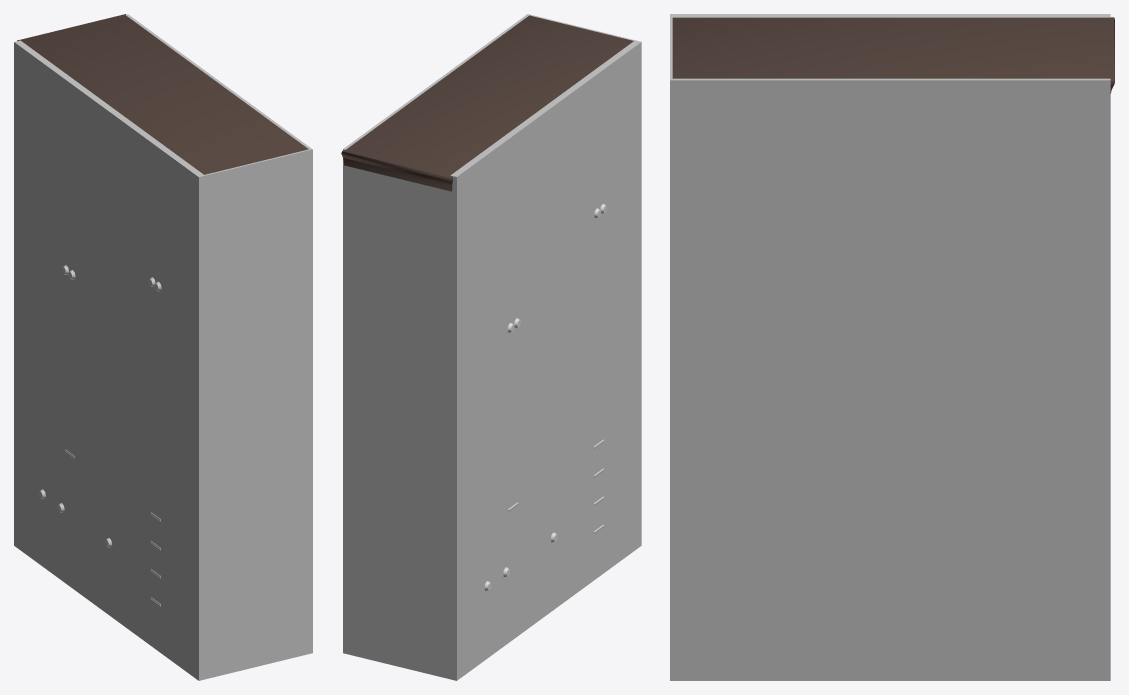
The model's file is SM_Commercial_Furniture_Bookcase_01_ATLAS.fbx.
The picture shows the model from 3 angles, left to right: view 1: azimuth 30°, elevation 25°; view 2: azimuth 150°, elevation 25°; view 3: azimuth 270°, elevation 25°; orthographic projection. The views are drawn at different scales.
Visible parts, largest first — view 1: SM_Commercial_Furniture_Bookcase_01_ATLAS_ConvexHulls, SM_Commercial_Furniture_Bookcase_01_ATLAS; view 2: SM_Commercial_Furniture_Bookcase_01_ATLAS_ConvexHulls, SM_Commercial_Furniture_Bookcase_01_ATLAS; view 3: SM_Commercial_Furniture_Bookcase_01_ATLAS_ConvexHulls, SM_Commercial_Furniture_Bookcase_01_ATLAS.
Boxes of the visible parts, x1,y1,x2,y2 form: SM_Commercial_Furniture_Bookcase_01_ATLAS_ConvexHulls: [14, 14, 312, 680]; SM_Commercial_Furniture_Bookcase_01_ATLAS: [17, 14, 308, 606]; SM_Commercial_Furniture_Bookcase_01_ATLAS_ConvexHulls: [343, 14, 641, 680]; SM_Commercial_Furniture_Bookcase_01_ATLAS: [341, 15, 633, 590]; SM_Commercial_Furniture_Bookcase_01_ATLAS_ConvexHulls: [670, 14, 1110, 680]; SM_Commercial_Furniture_Bookcase_01_ATLAS: [672, 17, 1114, 93].
Size of the model in its own units: 65.22 by 180 by 268.
